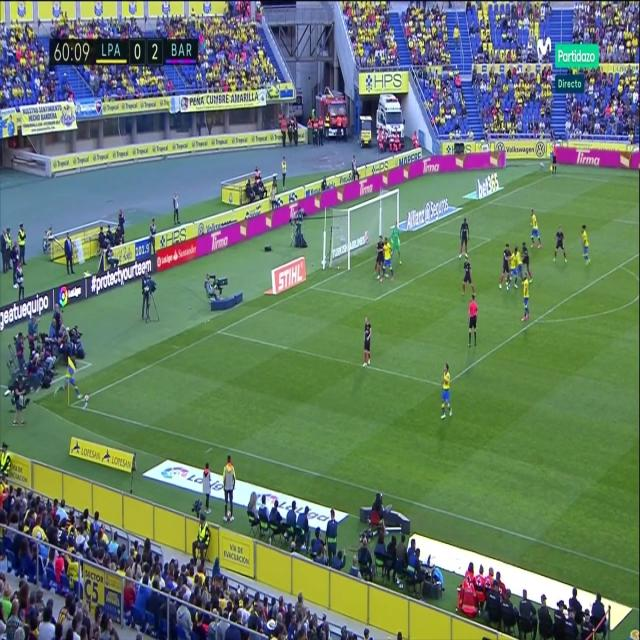Ball: (83, 391, 90, 403)
Goalkeeper: (390, 222, 404, 267)
Player: (438, 360, 455, 426), (380, 235, 395, 285), (520, 238, 535, 288), (528, 208, 545, 252), (360, 320, 374, 373), (552, 224, 570, 265), (457, 216, 472, 262), (496, 243, 510, 292), (506, 244, 520, 293), (461, 258, 476, 300), (520, 272, 531, 328), (372, 233, 384, 280), (580, 220, 592, 267)
Referee: (466, 291, 480, 349), (550, 140, 560, 173)
